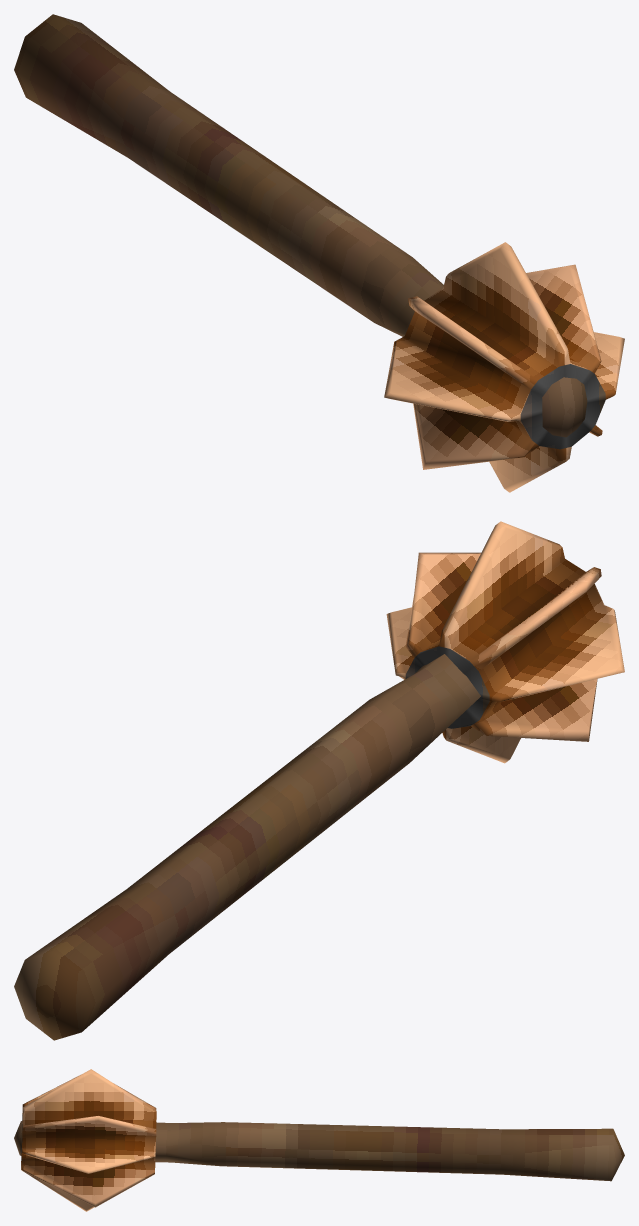
The model's file is MaceBronze.fbx.
The picture shows the model from 3 angles, top to bottom: view 1: azimuth 30°, elevation 25°; view 2: azimuth 150°, elevation 25°; view 3: azimuth 270°, elevation 25°; orthographic projection. The views are drawn at different scales.
Visible parts, largest first — view 1: bronze_mace_Cube.011; view 2: bronze_mace_Cube.011; view 3: bronze_mace_Cube.011.
Boxes of the visible parts, left/top/right/bottom form: bronze_mace_Cube.011: left=14, top=14, right=624, bottom=492; bronze_mace_Cube.011: left=14, top=521, right=624, bottom=1040; bronze_mace_Cube.011: left=14, top=1069, right=624, bottom=1211.
Bounding box in the file's own units: 0.2191 × 0.2153 × 0.8344.
1 material, 1 textured.
